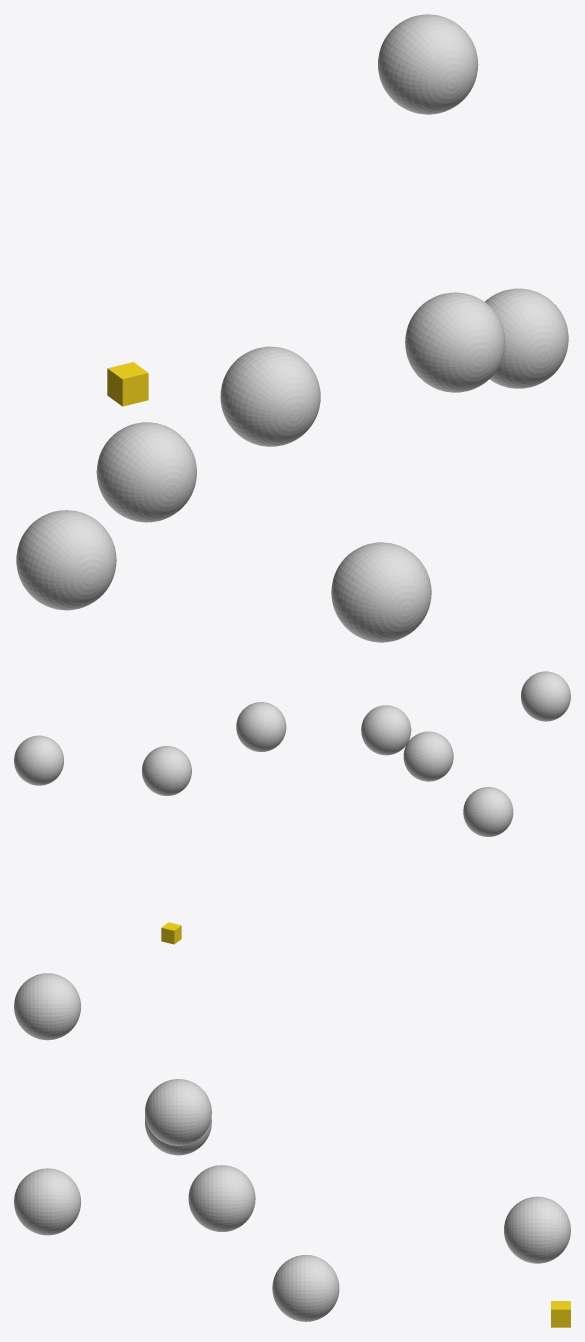
Rendered from tinker.obj.
3 views of the same model, one above another, from view 1: azimuth 30°, elevation 25°; view 2: azimuth 150°, elevation 25°; view 3: azimuth 270°, elevation 25° (orthographic). The views are drawn at different scales.
Visible parts, largest first — view 1: obj_7, obj_3, obj_4, obj_5, obj_6, obj_1, obj_2, obj_0; view 2: obj_4, obj_6, obj_1, obj_5, obj_7, obj_3, obj_2, obj_0; view 3: obj_2, obj_7, obj_3, obj_6, obj_1, obj_4, obj_5, obj_0.
Boxes of the visible parts, x1,y1,x2,y2 form: obj_7: (331, 542, 431, 642); obj_3: (405, 292, 505, 392); obj_4: (220, 346, 320, 446); obj_5: (16, 510, 116, 610); obj_6: (96, 422, 196, 522); obj_1: (378, 14, 478, 114); obj_2: (485, 288, 568, 388); obj_0: (107, 362, 148, 406); obj_4: (361, 705, 411, 755); obj_6: (521, 671, 570, 721); obj_1: (14, 735, 63, 785); obj_5: (463, 787, 513, 836); obj_7: (403, 731, 453, 781); obj_3: (236, 702, 286, 751); obj_2: (142, 746, 191, 795); obj_0: (161, 922, 181, 944); obj_2: (272, 1255, 339, 1321); obj_7: (14, 1168, 80, 1235); obj_3: (188, 1165, 255, 1231); obj_6: (14, 973, 80, 1040); obj_1: (504, 1196, 570, 1263); obj_4: (145, 1079, 211, 1145); obj_5: (145, 1117, 211, 1155); obj_0: (551, 1301, 570, 1327).
Size of the model in its own units: 169 by 75 by 166.
